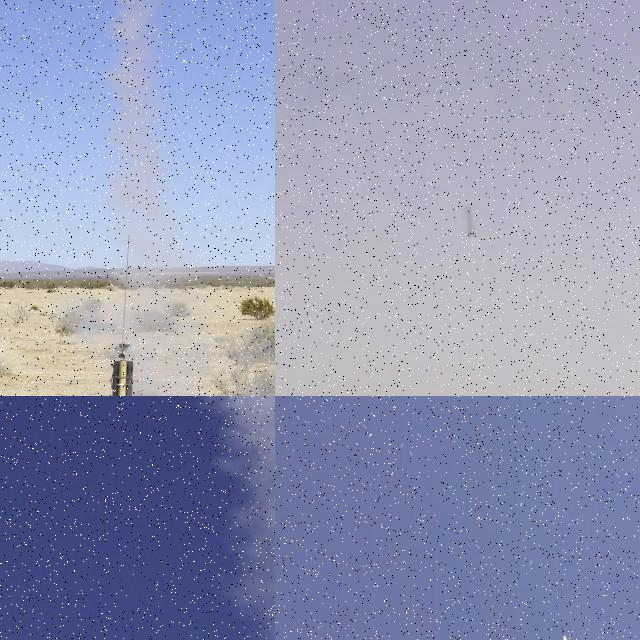Rocket: (463, 204, 478, 237), (561, 625, 566, 637)
